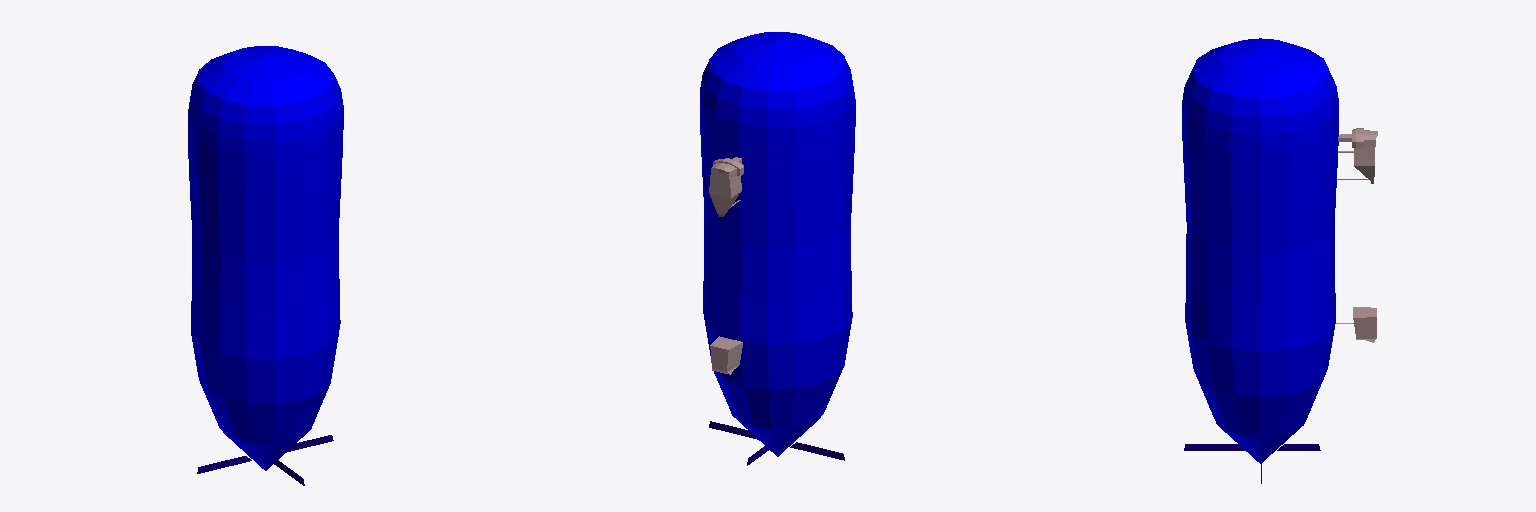
File: pflyship.obj
The picture shows the model from 3 angles: view 1: azimuth 30°, elevation 25°; view 2: azimuth 150°, elevation 25°; view 3: azimuth 270°, elevation 25°; orthographic projection.
Visible parts, largest first — view 1: objL9-ZEPP, objL9-lowe; view 2: objL9-ZEPP, objL9-ccar, objL9-rcar, objL9-lowe; view 3: objL9-ZEPP, objL9-ccar, objL9-rcar, objL9-lowe.
Boxes of the visible parts, x1=… form: objL9-ZEPP: x1=188, y1=46, x2=343, y2=470; objL9-lowe: x1=197, y1=435, x2=333, y2=485; objL9-ZEPP: x1=700, y1=32, x2=855, y2=456; objL9-ccar: x1=709, y1=157, x2=743, y2=216; objL9-rcar: x1=710, y1=336, x2=742, y2=374; objL9-lowe: x1=709, y1=421, x2=844, y2=465; objL9-ZEPP: x1=1182, y1=38, x2=1338, y2=463; objL9-ccar: x1=1337, y1=128, x2=1377, y2=183; objL9-rcar: x1=1336, y1=307, x2=1376, y2=342; objL9-lowe: x1=1184, y1=444, x2=1320, y2=483.
Size of the model in its own units: 1183 by 3450 by 1473.